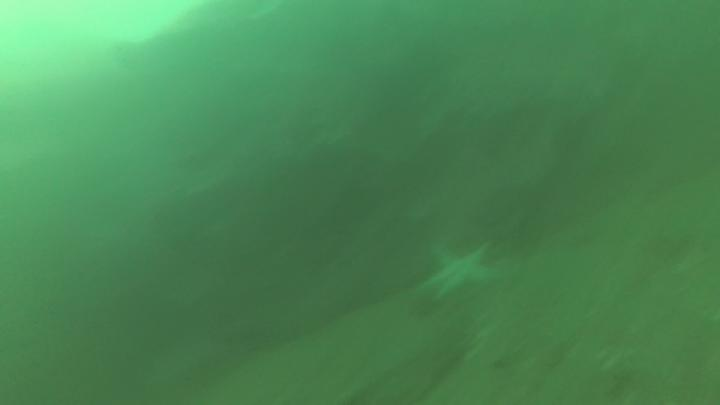starfish: (409, 242, 506, 304)
